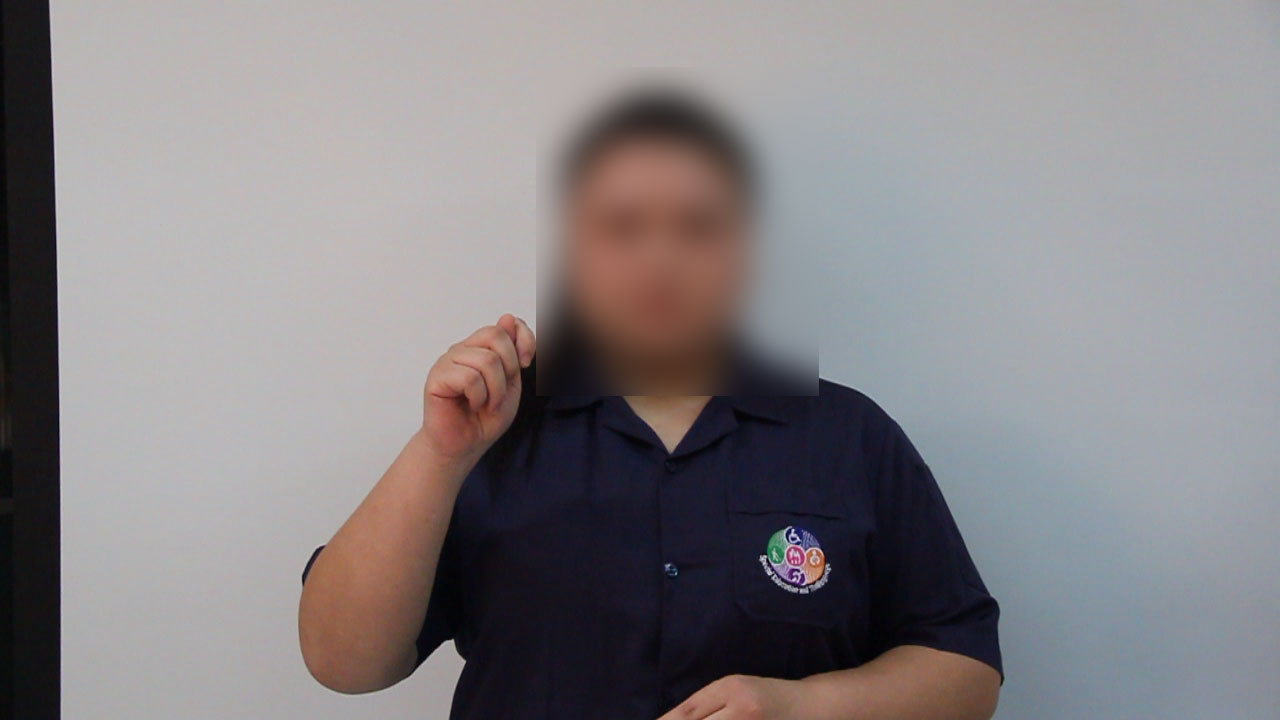tor: (414, 290, 557, 469)
